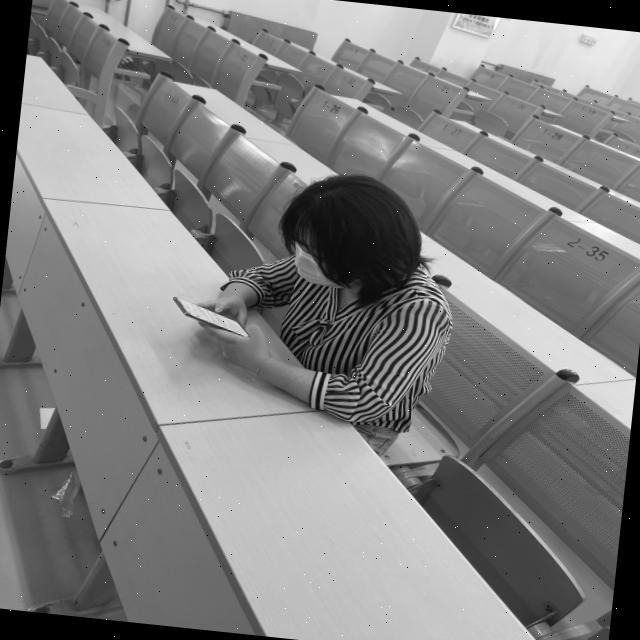phone: (167, 158, 464, 441)
